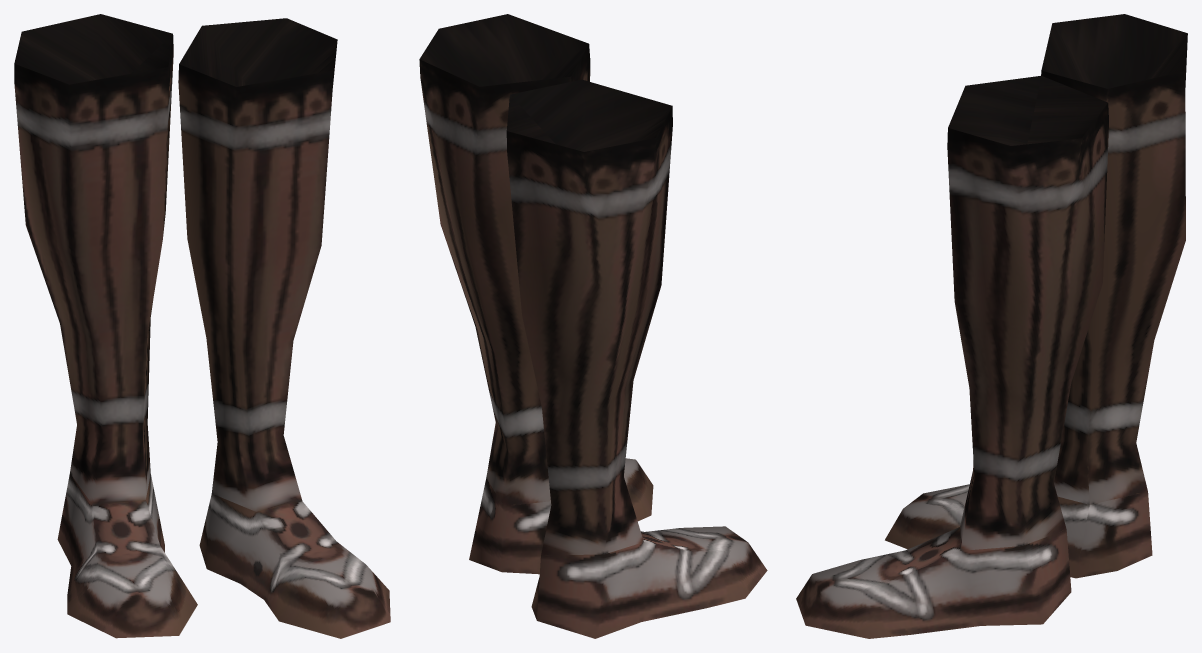
File: GAM_Boots.FBX
3 renders of one model, left to right at view 1: azimuth 30°, elevation 25°; view 2: azimuth 150°, elevation 25°; view 3: azimuth 270°, elevation 25°, orthographic. The views are drawn at different scales.
Visible parts, largest first — view 1: GAM_Boots; view 2: GAM_Boots; view 3: GAM_Boots.
Boxes of the visible parts, bbox=[...] form: GAM_Boots: bbox=[14, 14, 390, 638]; GAM_Boots: bbox=[419, 14, 767, 638]; GAM_Boots: bbox=[796, 14, 1187, 638].
Bounding box in the file's own units: 23.11 × 38.63 × 27.23.
